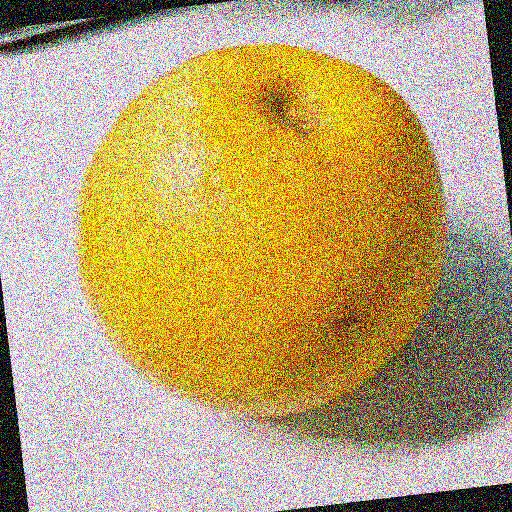fruit: (378, 96, 509, 434)
